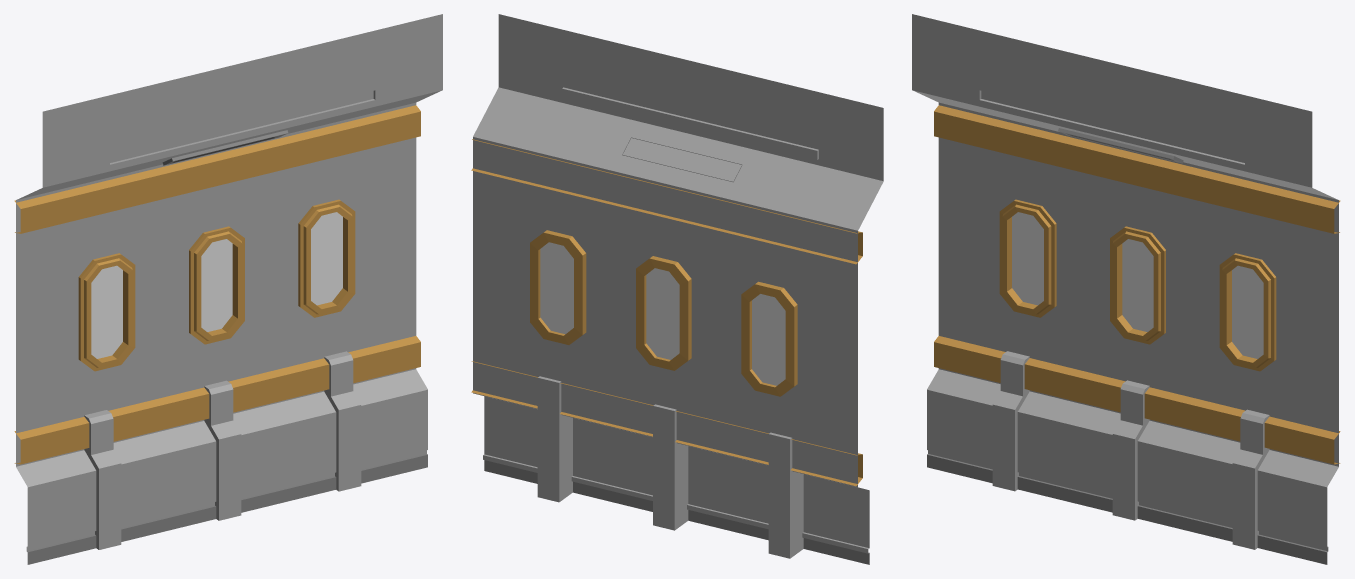
Rendered from threewindows_wall_sideb.glb.
The picture shows the model from 3 angles, left to right: view 1: azimuth 30°, elevation 25°; view 2: azimuth 150°, elevation 25°; view 3: azimuth 330°, elevation 25°; orthographic projection. The views are drawn at different scales.
Visible parts, largest first — view 1: ThreeWindows_Wall_SideB; view 2: ThreeWindows_Wall_SideB; view 3: ThreeWindows_Wall_SideB.
Part boxes in pixels (bbox=[...]): ThreeWindows_Wall_SideB: bbox=[14, 14, 442, 564]; ThreeWindows_Wall_SideB: bbox=[471, 14, 883, 564]; ThreeWindows_Wall_SideB: bbox=[912, 14, 1340, 564].
Size of the model in its own units: 4 by 4.43 by 0.5261.
